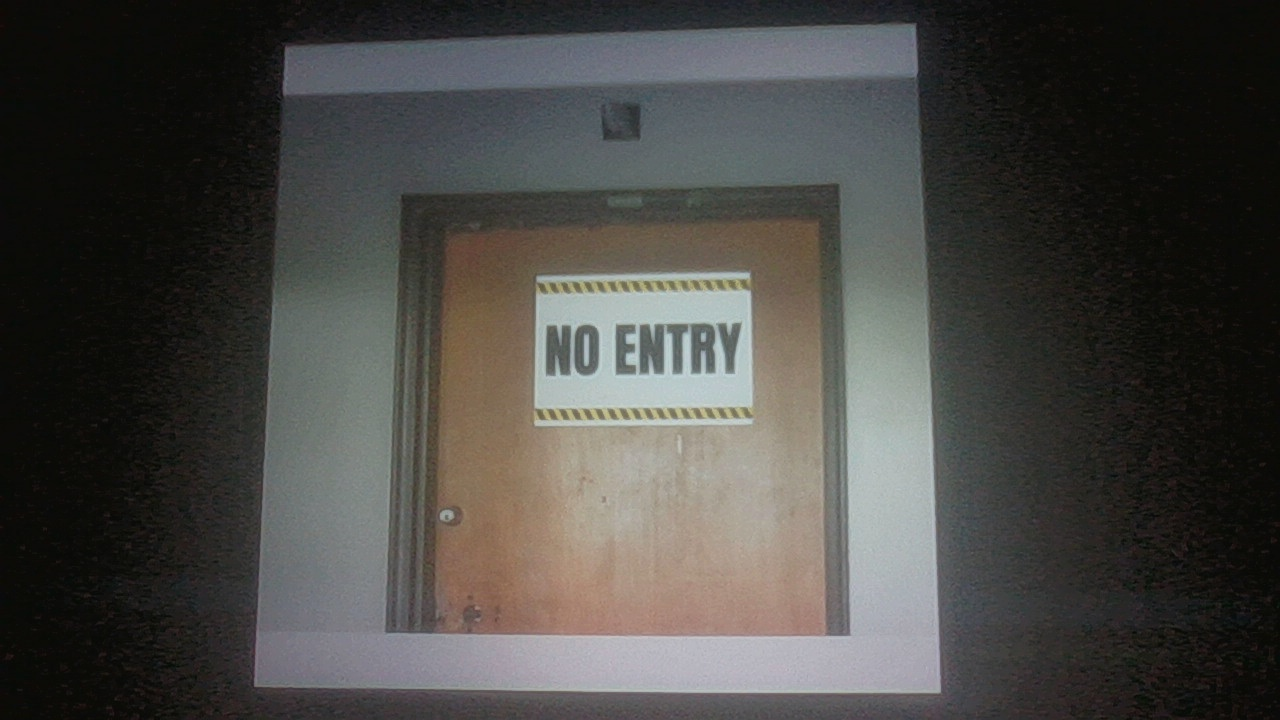no_entry: (532, 266, 758, 429)
